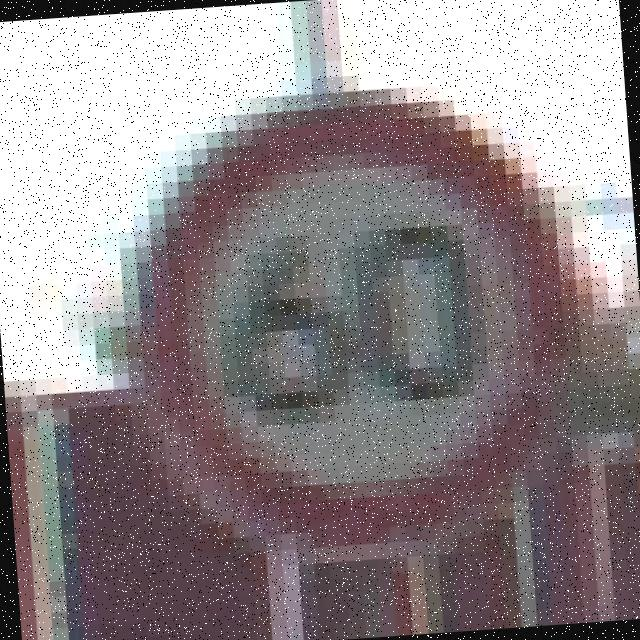Ograniczenie predkosci do 60: (128, 86, 576, 557)
